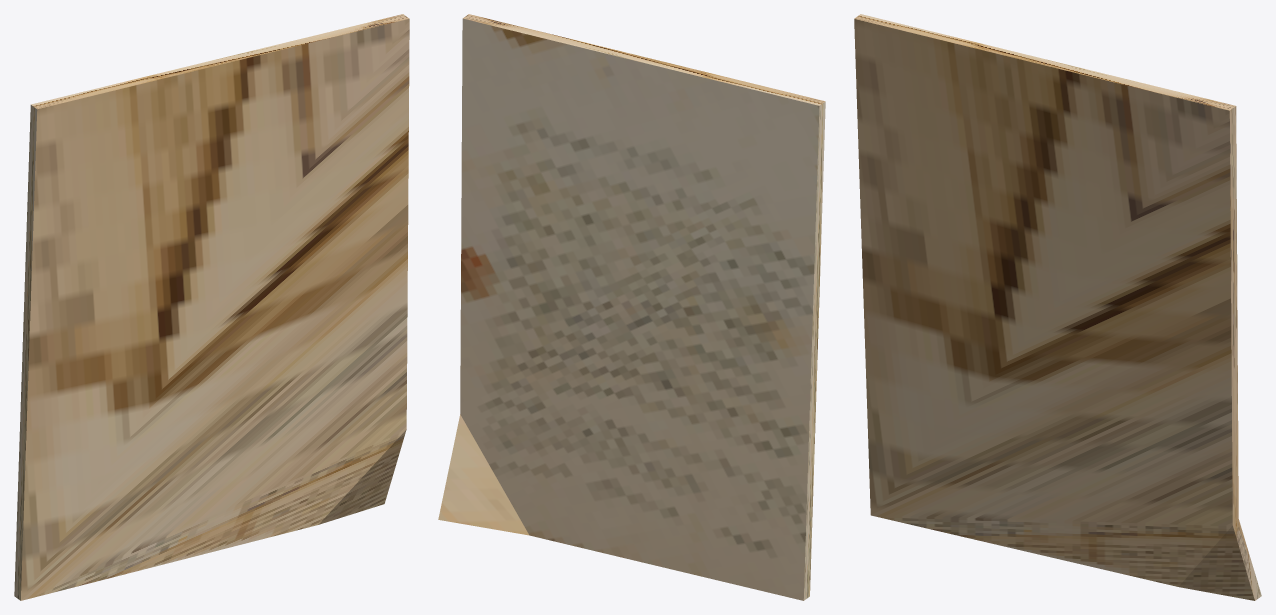
File: note 1.fbx
3 renders of one model, left to right at view 1: azimuth 30°, elevation 25°; view 2: azimuth 150°, elevation 25°; view 3: azimuth 330°, elevation 25°, orthographic. The views are drawn at different scales.
Visible parts, largest first — view 1: note; view 2: note; view 3: note.
Part boxes in pixels (x1,y1,x2,y2): note: (14, 14, 409, 600); note: (438, 14, 825, 600); note: (854, 14, 1261, 600).
Bounding box in the file's own units: 149 × 193 × 22.01.
